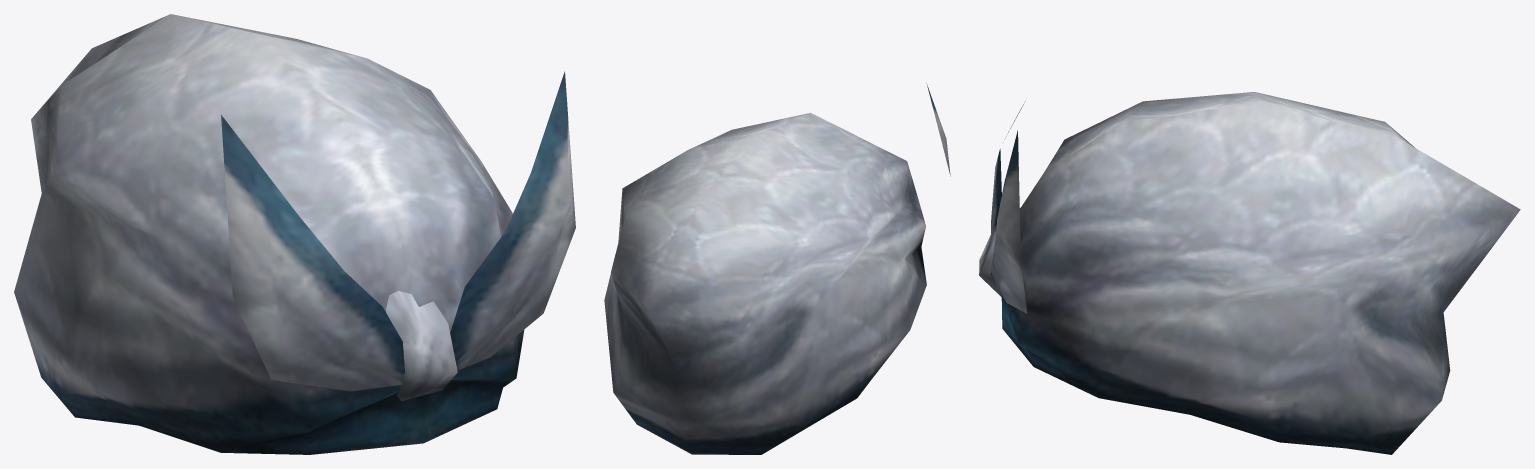
Rendered from clothes_01_ha.glb.
3 renders of one model, left to right at view 1: azimuth 30°, elevation 25°; view 2: azimuth 150°, elevation 25°; view 3: azimuth 270°, elevation 25°, orthographic. The views are drawn at different scales.
Visible parts, largest first — view 1: clothes_01_ha; view 2: clothes_01_ha; view 3: clothes_01_ha.
Boxes of the visible parts, left/top/right/bottom form: clothes_01_ha: left=14, top=14, right=575, bottom=454; clothes_01_ha: left=604, top=83, right=950, bottom=454; clothes_01_ha: left=979, top=92, right=1520, bottom=454.
Size of the model in its own units: 0.1569 by 0.1738 by 0.2382.
1 material, 1 textured.
